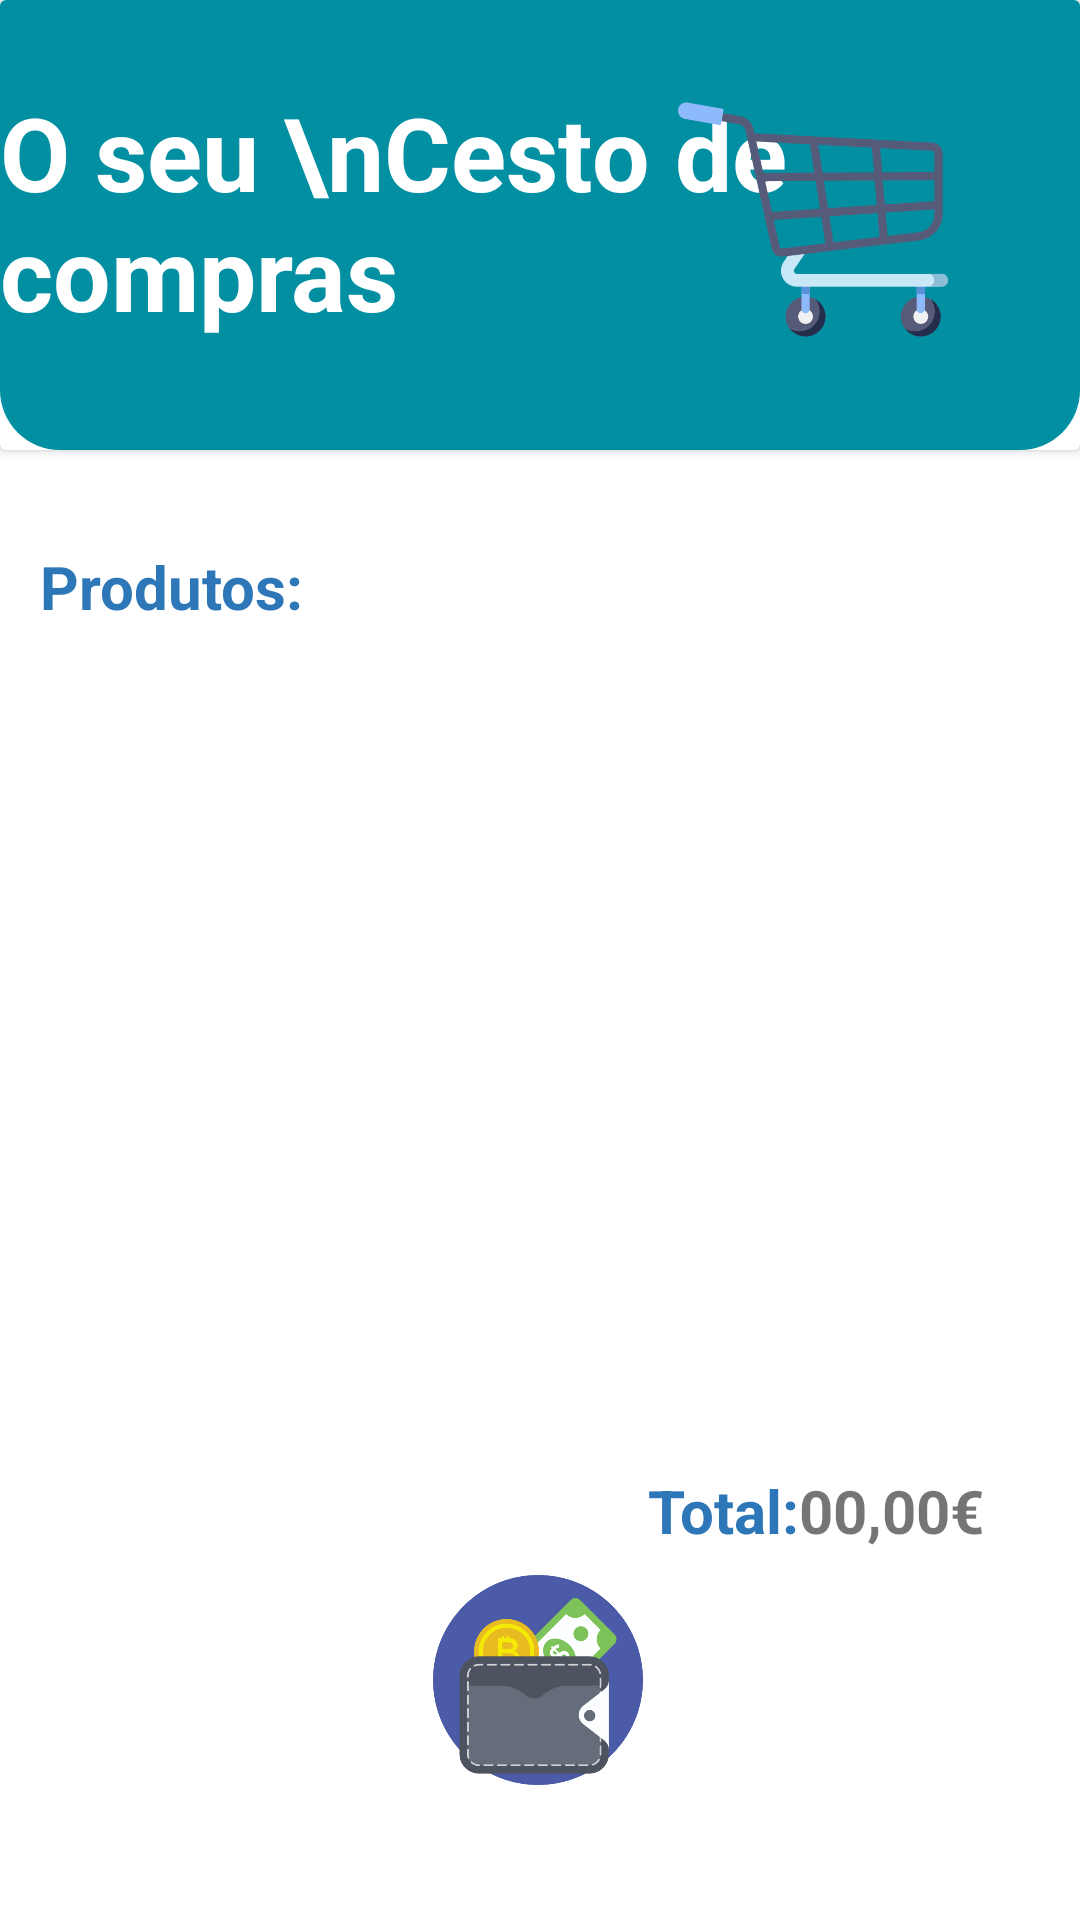

Screen size 1080*1920. Icon name, then its center in pixels as (x=x, y=y):
cart: (x=813, y=219)
wallet: (x=538, y=1680)
